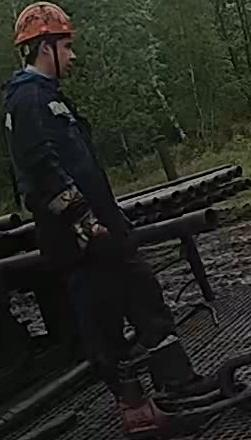gloves: (63, 202, 118, 262)
helmet: (12, 0, 76, 46)
vest: (2, 71, 132, 262)
